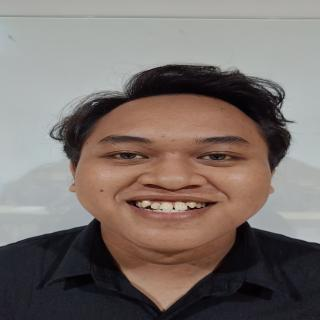Senang: (76, 84, 279, 255)
